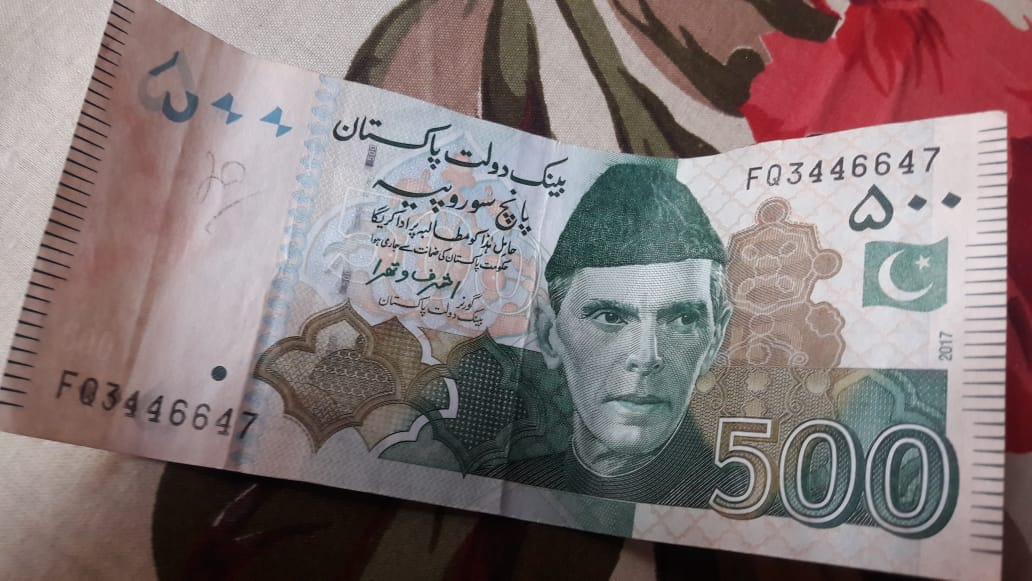500 rupee: (11, 10, 1012, 574)
